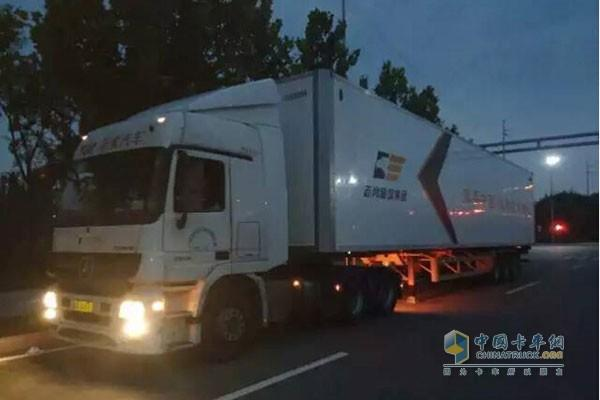truck: (48, 65, 535, 371)
